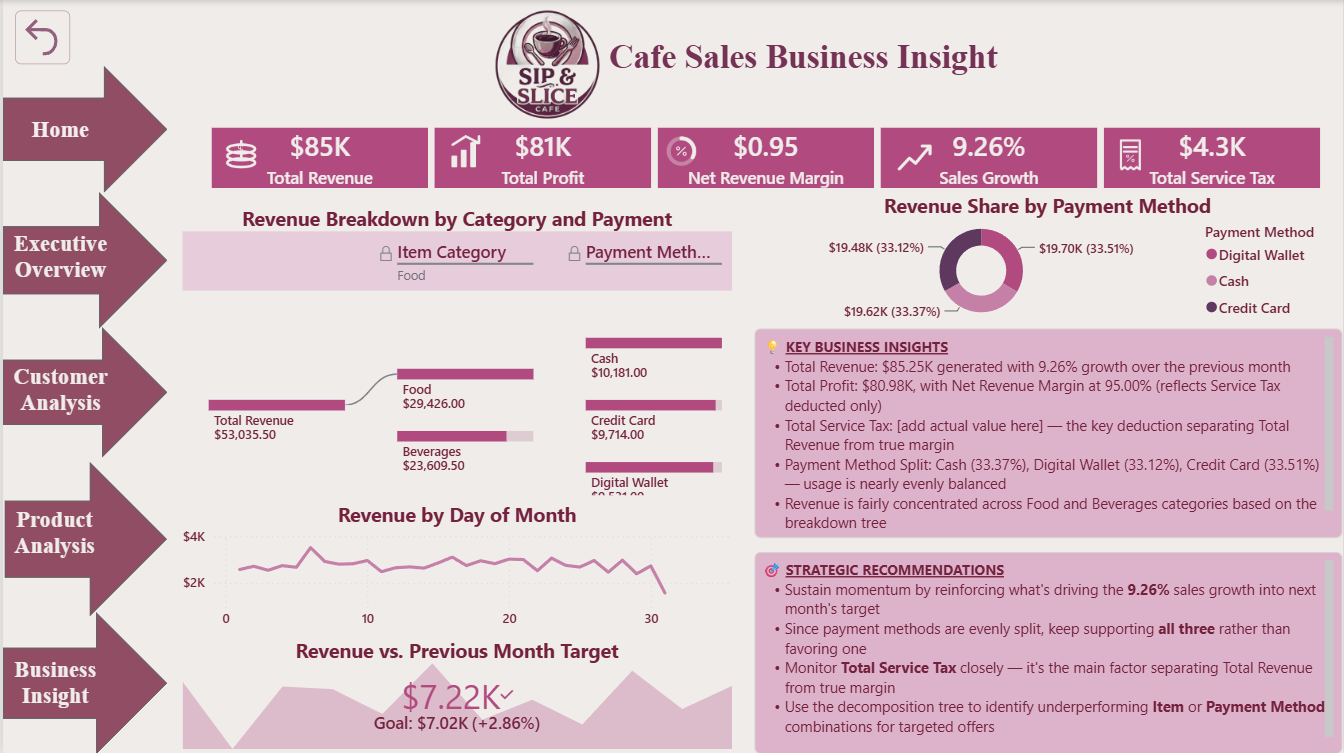

This screenshot's page, from the dashboard's own definition file:
{"tool":"powerbi","page":{"name":"Business Insight","canvas":[1280,720],"ordinal":4},"visuals":[{"type":"textbox","box":[330.9,30.6,866.6,73.1],"z":0,"group":"g7"},{"type":"group","id":"g1","title":"Group 5","box":[0,62.4,156.9,120.9],"z":0,"group":"g6"},{"type":"cardVisual","fields":{"Data":["_Measures.Total Revenue","_Measures.Total Profit","_Measures.Profit Margin","_Measures.Sales Growth","_Measures.Total Service Tax"]},"box":[181.4,103.9,1098,92.6],"z":0,"group":"g8"},{"type":"kpi","title":" Revenue vs. Previous Month Target","fields":{"Indicator":["_Measures.Total Revenue"],"TrendLine":["Dim_Date.Month"],"Goal":["_Measures.Previous Month Sales"]},"box":[166.3,608.5,534.8,111.5],"z":0},{"type":"image","box":[448,10,143.5,103.1],"z":1000,"group":"g7"},{"type":"group","id":"g2","title":"Group 6","box":[0,183.3,156.9,130.4],"z":1000,"group":"g6"},{"type":"decompositionTreeVisual","title":"Revenue Breakdown by Category and Payment","fields":{"Analyze":["_Measures.Total Revenue"],"ExplainBy":["Cafe_Sales.Item Category","Cafe_Sales.Payment Method"]},"box":[166.3,196.5,534.8,281.6],"z":1000},{"type":"group","id":"g3","title":"Group 7","box":[0,311.9,156.9,124.7],"z":2000,"group":"g6"},{"type":"lineChart","title":"Revenue by Day of Month","fields":{"Category":["Dim_Date.Day of Month"],"Y":["_Measures.Total Revenue"]},"box":[166.3,478.1,534.8,130.4],"z":2000},{"type":"donutChart","title":"Revenue Share by Payment Method","fields":{"Category":["Cafe_Sales.Payment Method"],"Y":["_Measures.Total Revenue"]},"box":[714.3,183.3,565,130.4],"z":3000},{"type":"group","id":"g4","title":"Group 8","box":[0,584,156.9,136.1],"z":3000,"group":"g6"},{"type":"textbox","box":[718.1,313.7,561.3,200.3],"z":4000},{"type":"group","id":"g5","title":"Group 9","box":[0,440.4,156.9,147.4],"z":4000,"group":"g6"},{"type":"textbox","box":[718.1,527.2,561.3,192.8],"z":5000},{"type":"group","id":"g6","title":"Group 1","box":[0,62.4,156.9,657.6],"z":6000},{"type":"group","id":"g7","title":"Group 2","box":[330.9,10,866.6,103.1],"z":7000},{"type":"group","id":"g8","title":"Group 4","box":[181.4,103.9,1098,92.6],"z":8000},{"type":"actionButton","box":[0,0,53,51.5],"z":9000},{"type":"image","box":[204.1,122.8,45.4,41.6],"z":9000,"group":"g9"},{"type":"image","box":[417.6,124.7,47.2,39.7],"z":10000,"group":"g9"},{"type":"image","box":[627.4,124.7,37.8,39.7],"z":11000,"group":"g9"},{"type":"image","box":[841,130.4,56.7,41.6],"z":12000,"group":"g9"},{"type":"image","box":[1058.3,124.7,35.9,47.2],"z":13000,"group":"g9"},{"type":"group","id":"g9","title":"Group 3","box":[204.1,122.8,890.1,49.1],"z":13001,"group":"g8"},{"type":"shape","box":[0,584,156.9,136.1],"z":19000,"group":"g4"},{"type":"shape","box":[0,62.4,156.9,120.9],"z":20000,"group":"g1"},{"type":"shape","box":[0,311.9,156.9,124.7],"z":21000,"group":"g3"},{"type":"shape","box":[0,183.3,156.9,130.4],"z":22000,"group":"g2"},{"type":"shape","box":[1.7,440.4,155.1,147.4],"z":23000,"group":"g5"},{"type":"textbox","box":[0,104.9,109.6,39.7],"z":23005,"group":"g1"},{"type":"textbox","box":[0,214.4,110,64.2],"z":23007,"group":"g2"},{"type":"textbox","box":[0,342.1,110,66.4],"z":23009,"group":"g3"},{"type":"textbox","box":[0,477.4,98.8,64.1],"z":23011,"group":"g5"},{"type":"textbox","box":[0,620.9,100.2,70],"z":23012,"group":"g4"}]}

Visuals, with their boxes in screenshot pixels (x1, y1, x2, y2), scaled from the page's 1280x720 canvas onto the 1344x753 screenshot:
textbox: 347:32:1257:108
"Group 5" group: 0:65:165:192
cardVisual - _Measures.Total Revenue x _Measures.Total Profit: 190:109:1343:206
" Revenue vs. Previous Month Target" kpi: 175:636:736:752
image: 470:10:621:118
"Group 6" group: 0:192:165:328
"Revenue Breakdown by Category and Payment" decompositionTreeVisual: 175:206:736:500
"Group 7" group: 0:326:165:457
"Revenue by Day of Month" lineChart: 175:500:736:636
"Revenue Share by Payment Method" donutChart: 750:192:1343:328
"Group 8" group: 0:611:165:752
textbox: 754:328:1343:538
"Group 9" group: 0:461:165:615
textbox: 754:551:1343:752
"Group 1" group: 0:65:165:752
"Group 2" group: 347:10:1257:118
"Group 4" group: 190:109:1343:206
actionButton: 0:0:56:54
image: 214:128:262:172
image: 438:130:488:172
image: 659:130:698:172
image: 883:136:943:180
image: 1111:130:1149:180
"Group 3" group: 214:128:1149:180
shape: 0:611:165:752
shape: 0:65:165:192
shape: 0:326:165:457
shape: 0:192:165:328
shape: 2:461:165:615
textbox: 0:110:115:151
textbox: 0:224:116:291
textbox: 0:358:116:427
textbox: 0:499:104:566
textbox: 0:649:105:723
